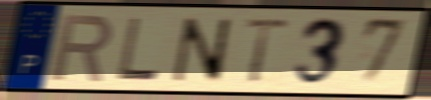3: (291, 15, 353, 90)
7: (359, 15, 412, 90)
L: (115, 16, 162, 82)
N: (170, 15, 234, 85)
R: (48, 12, 116, 84)
T: (241, 17, 295, 86)
